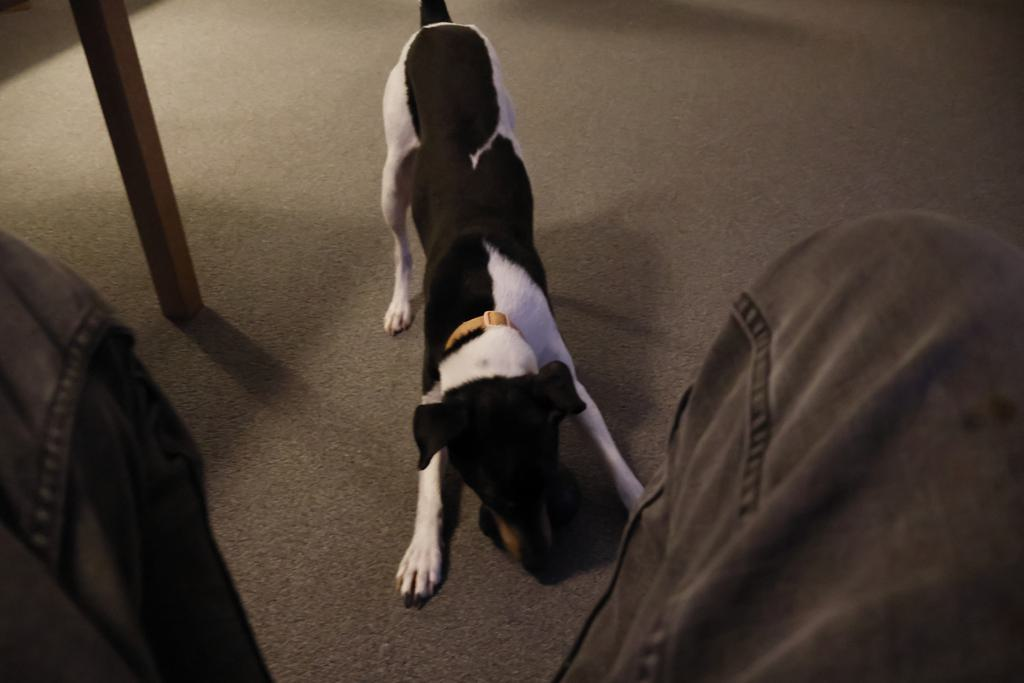Dog: (340, 0, 672, 607)
Humanoid: (0, 200, 1024, 683)
